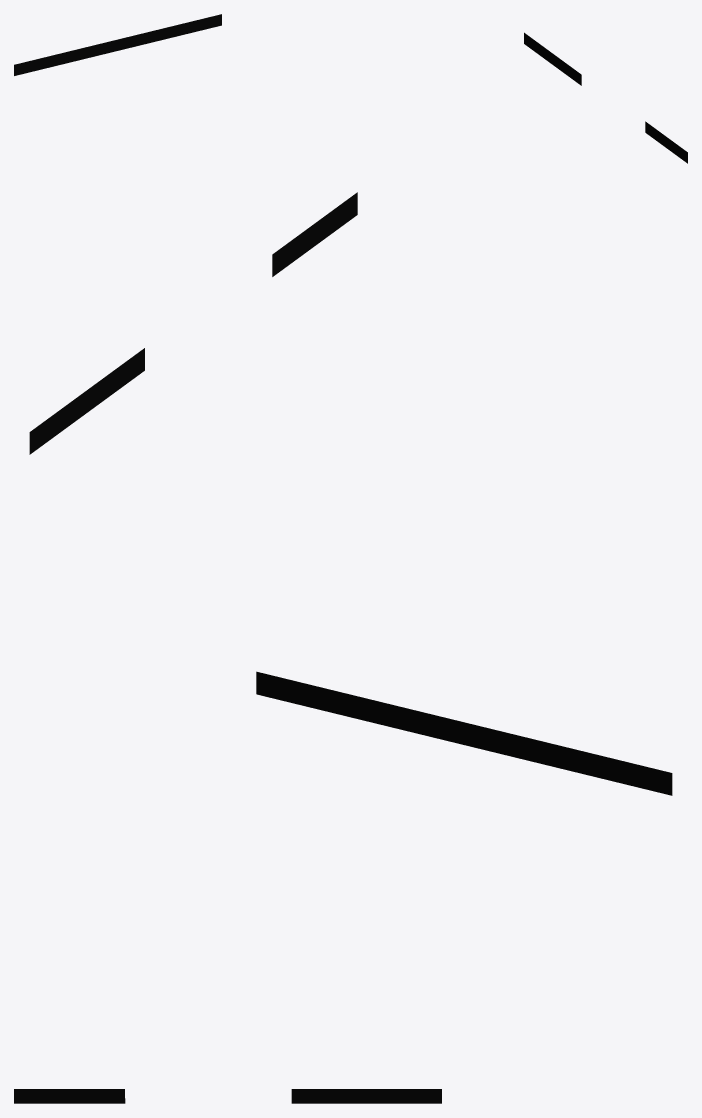
Rendered from LAKETOWN_WAREHOUSE2_PS_WH2_GRIME_EDGE_49561.fbx.
3 views of the same model, one above another, from view 1: azimuth 30°, elevation 25°; view 2: azimuth 150°, elevation 25°; view 3: azimuth 270°, elevation 25° (orthographic). The views are drawn at different scales.
Visible parts, largest first — view 1: LAKETOWN_WAREHOUSE2_PS_WH2_GRIME_EDGE_49561; view 2: LAKETOWN_WAREHOUSE2_PS_WH2_GRIME_EDGE_49561; view 3: LAKETOWN_WAREHOUSE2_PS_WH2_GRIME_EDGE_49561.
Part boxes in pixels (bbox=[...]): LAKETOWN_WAREHOUSE2_PS_WH2_GRIME_EDGE_49561: bbox=[14, 14, 687, 163]; LAKETOWN_WAREHOUSE2_PS_WH2_GRIME_EDGE_49561: bbox=[29, 192, 672, 795]; LAKETOWN_WAREHOUSE2_PS_WH2_GRIME_EDGE_49561: bbox=[14, 1089, 441, 1103].
Size of the model in its own units: 117455 by 3078 by 126416.
Materials: 1 (1 with a texture image).
